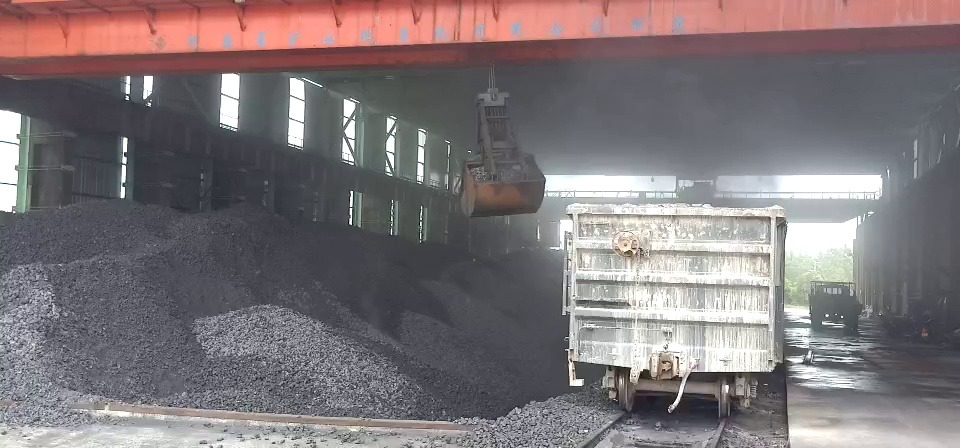dust: (594, 120, 764, 198), (481, 237, 562, 322)
grab: (455, 77, 549, 217)
